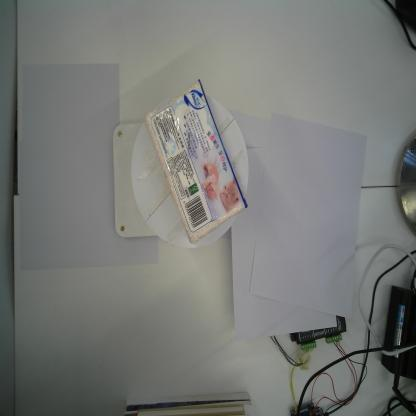Tissue: (143, 78, 249, 246)
